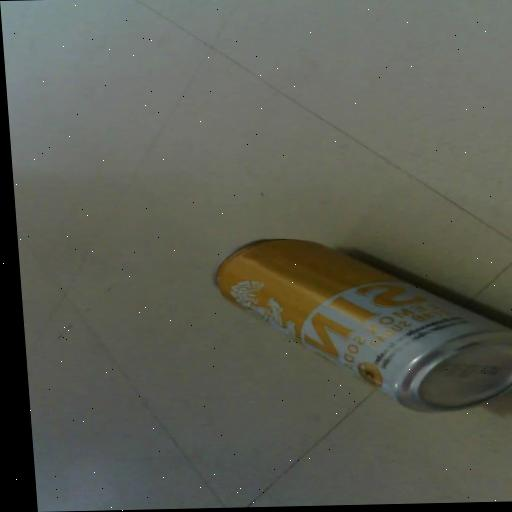canned: (191, 226, 512, 425)
